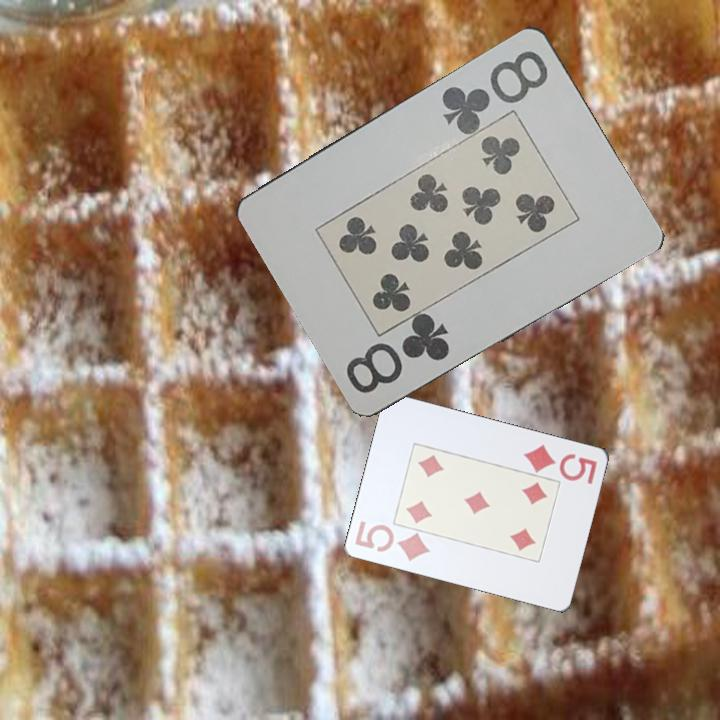5d: (351, 517, 433, 564), (520, 440, 600, 487)
8c: (438, 43, 552, 136), (342, 311, 453, 396)
